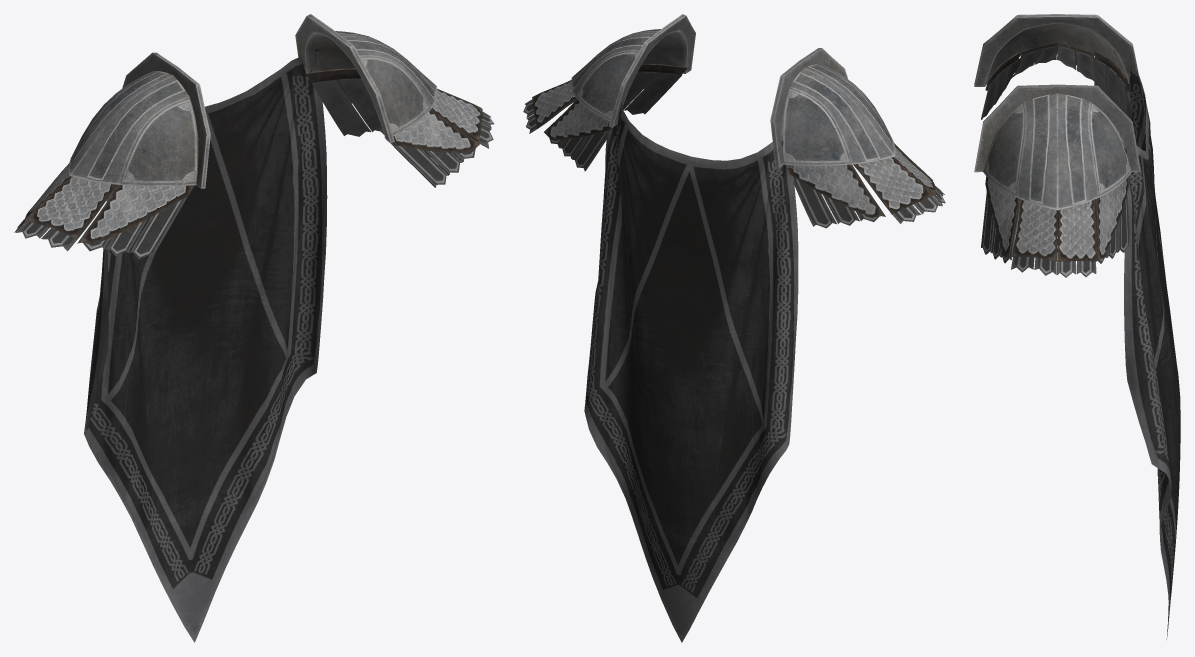
File: sk_dwarf_erebor_pauldron_plate_cape_elite_a.fbx
The picture shows the model from 3 angles, left to right: view 1: azimuth 30°, elevation 25°; view 2: azimuth 150°, elevation 25°; view 3: azimuth 270°, elevation 25°; orthographic projection. The views are drawn at different scales.
Visible parts, largest first — view 1: sk_dwarf_erebor_pauldron_plate_cape_elite_a.1, sk_dwarf_erebor_pauldron_plate_cape_elite_a.0; view 2: sk_dwarf_erebor_pauldron_plate_cape_elite_a.1, sk_dwarf_erebor_pauldron_plate_cape_elite_a.0; view 3: sk_dwarf_erebor_pauldron_plate_cape_elite_a.0, sk_dwarf_erebor_pauldron_plate_cape_elite_a.1.
Part boxes in pixels (bbox=[...]): sk_dwarf_erebor_pauldron_plate_cape_elite_a.1: bbox=[84, 49, 327, 642]; sk_dwarf_erebor_pauldron_plate_cape_elite_a.0: bbox=[14, 14, 494, 258]; sk_dwarf_erebor_pauldron_plate_cape_elite_a.1: bbox=[584, 102, 798, 642]; sk_dwarf_erebor_pauldron_plate_cape_elite_a.0: bbox=[523, 14, 945, 228]; sk_dwarf_erebor_pauldron_plate_cape_elite_a.0: bbox=[974, 14, 1140, 277]; sk_dwarf_erebor_pauldron_plate_cape_elite_a.1: bbox=[1113, 50, 1180, 639].
Bounding box in the file's own units: 0.9344 × 0.3779 × 1.2.
Materials: 2 (2 with a texture image).
